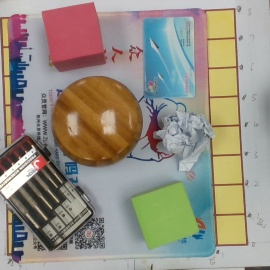card: (139, 14, 199, 100)
chess: (51, 73, 142, 168)
